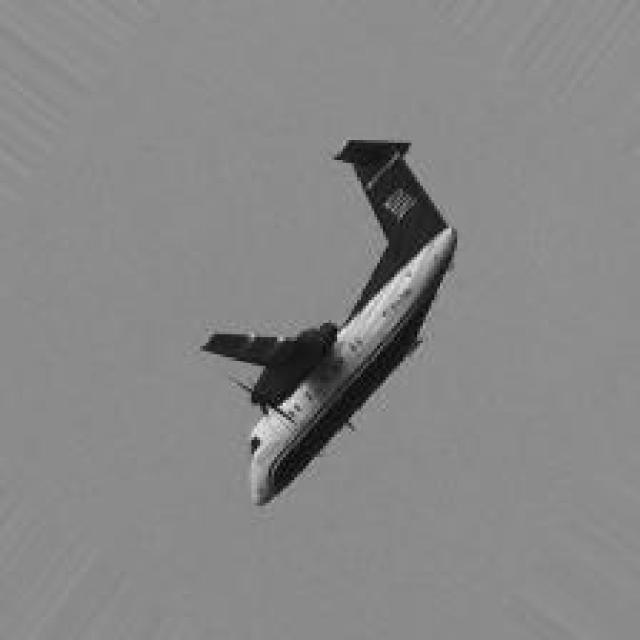aeroplane: (198, 135, 458, 510)
